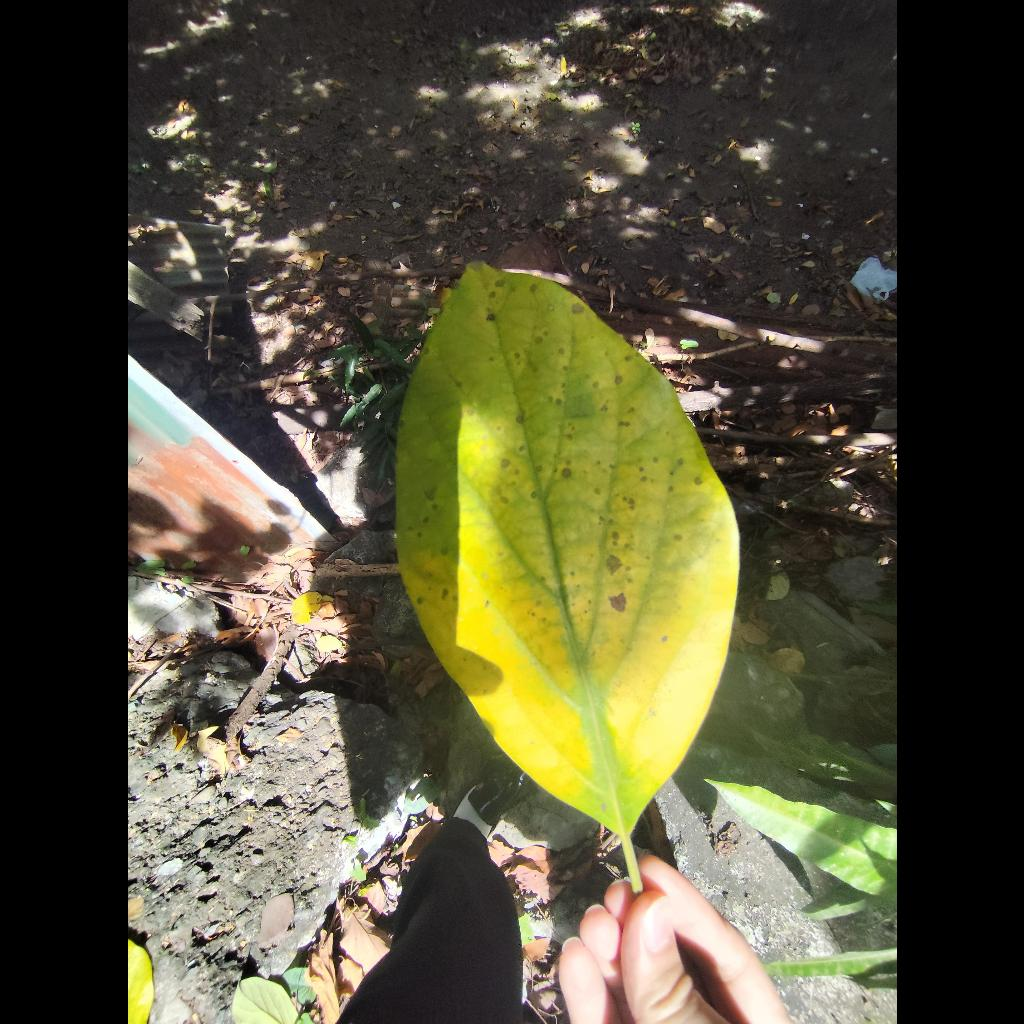deficiencia_nutricional: (395, 263, 738, 884)
